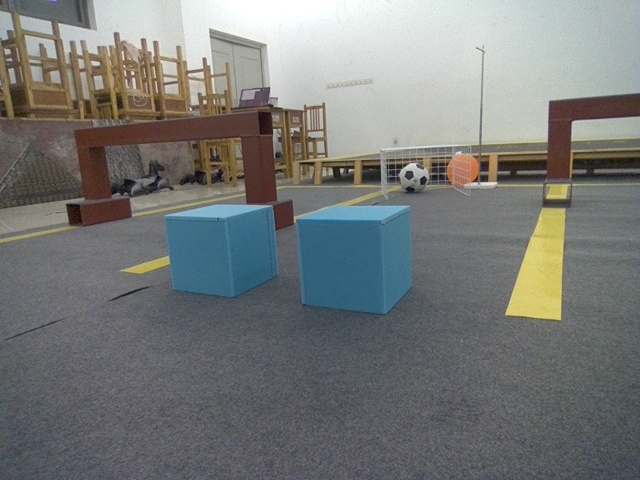football: (399, 163, 429, 193)
obstacle: (450, 157, 479, 189)
